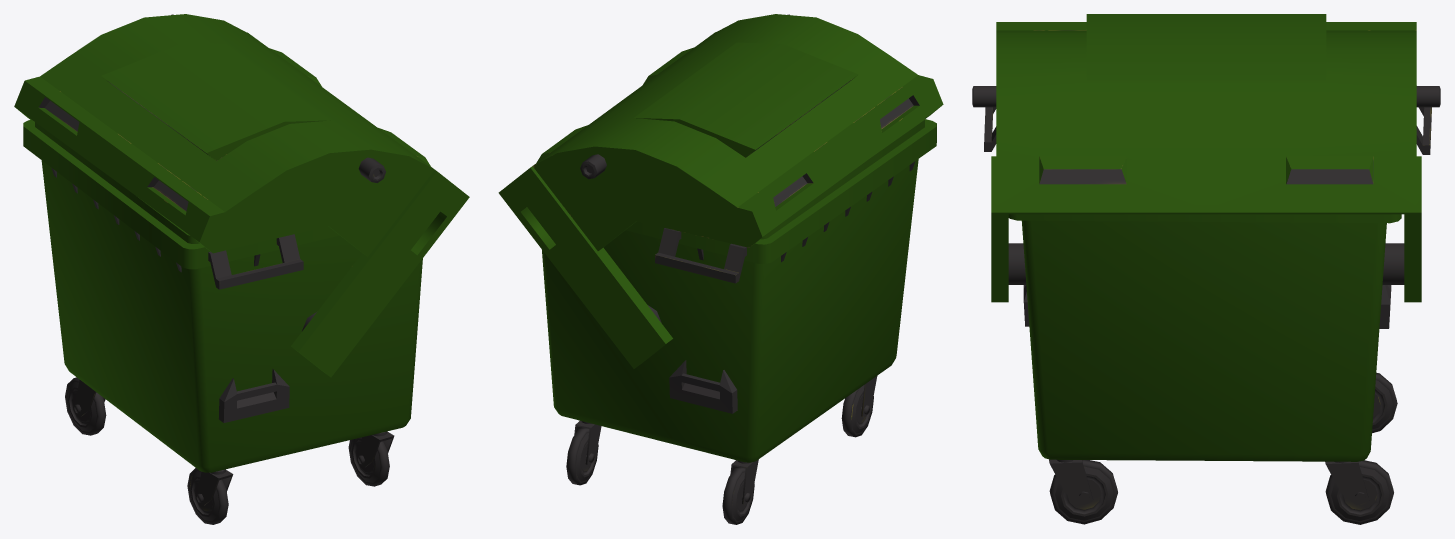
Rendered from DumpsterGreen.glb.
3 renders of one model, left to right at view 1: azimuth 30°, elevation 25°; view 2: azimuth 150°, elevation 25°; view 3: azimuth 270°, elevation 25°, orthographic. The views are drawn at different scales.
Visible parts, largest first — view 1: Tonne; view 2: Tonne; view 3: Tonne.
Part boxes in pixels (x1,y1,x2,y2): Tonne: [14, 14, 469, 524]; Tonne: [498, 14, 943, 524]; Tonne: [972, 14, 1440, 524].
Bounding box in the file's own units: 2.59 × 3.46 × 3.39.
Materials: 1 (1 with a texture image).
